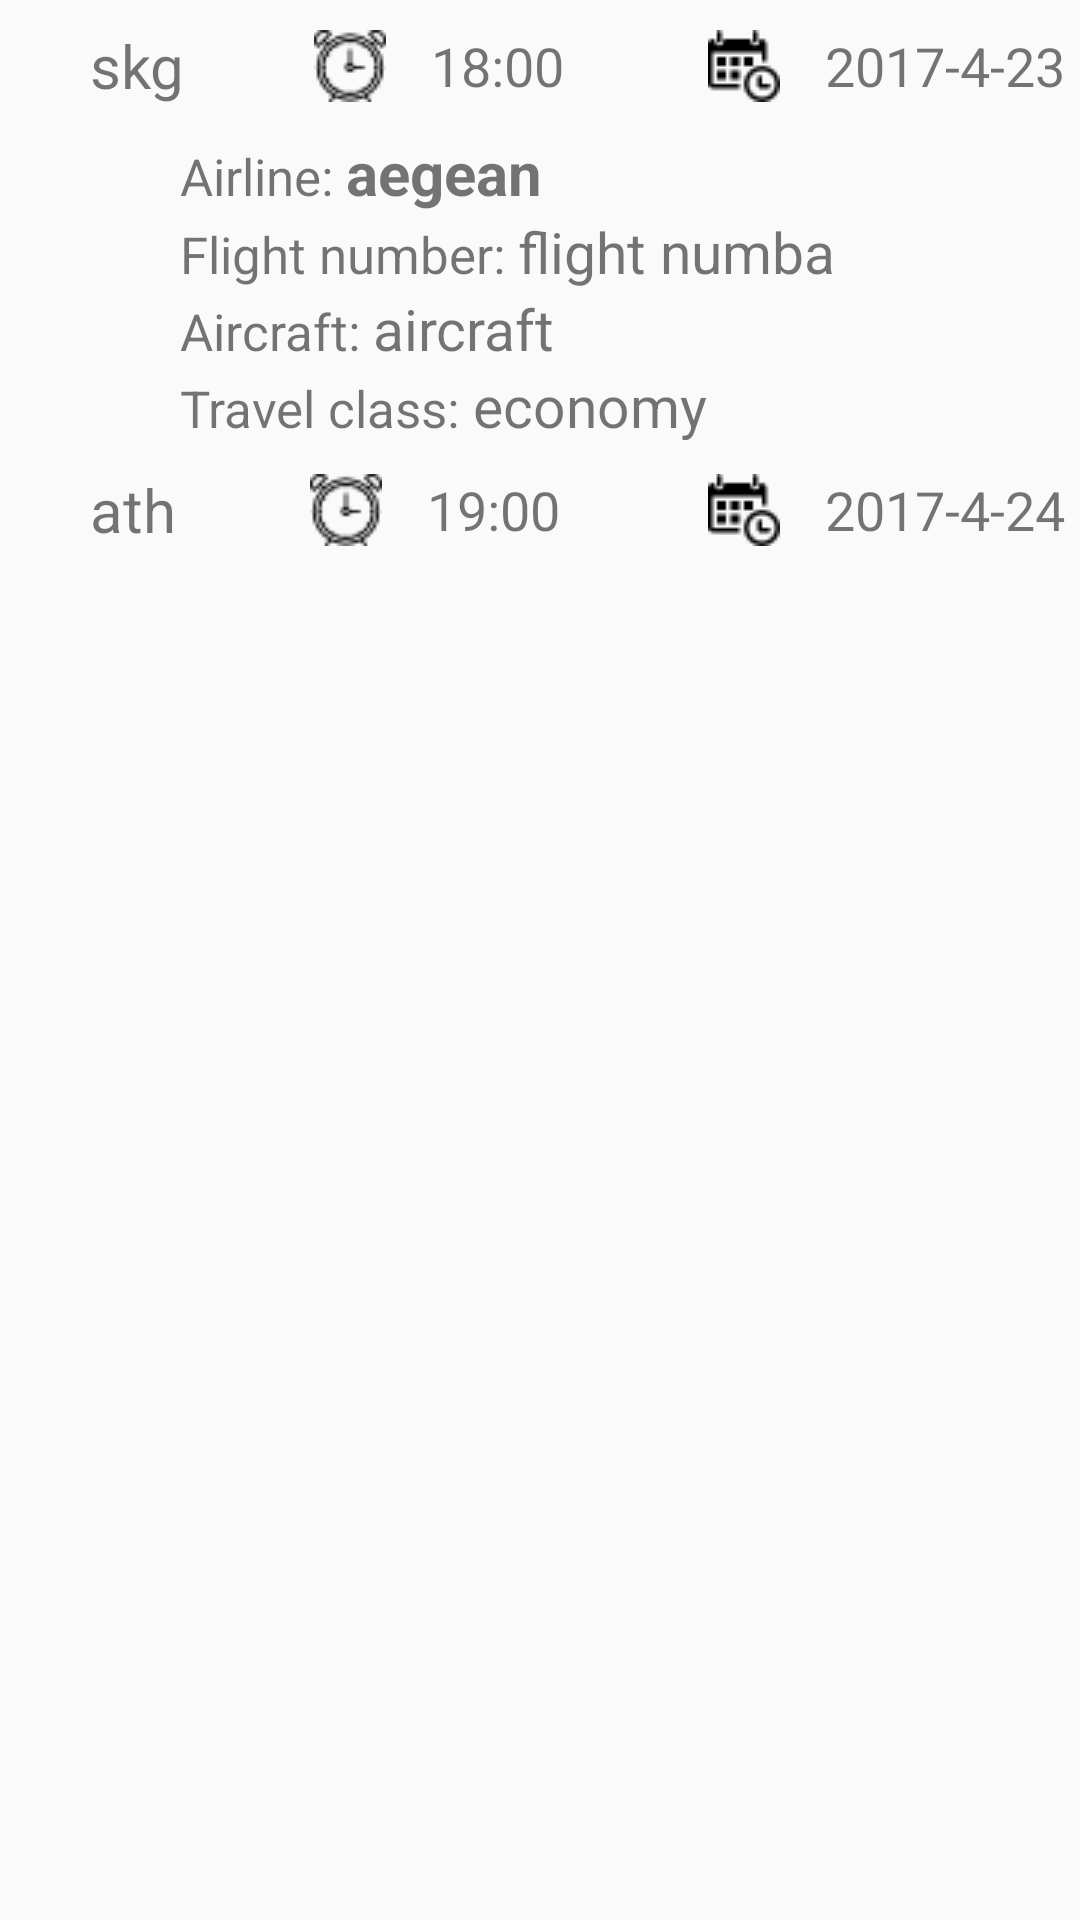

Named icons in this screenshot (1080 x 1920) and their bounding boxes, [left=x1, top=y1, right=x2, bottom=y2]:
alarm clock: [left=314, top=30, right=386, bottom=102], [left=310, top=474, right=382, bottom=546]
calendar: [left=708, top=30, right=780, bottom=102], [left=708, top=474, right=780, bottom=546]
